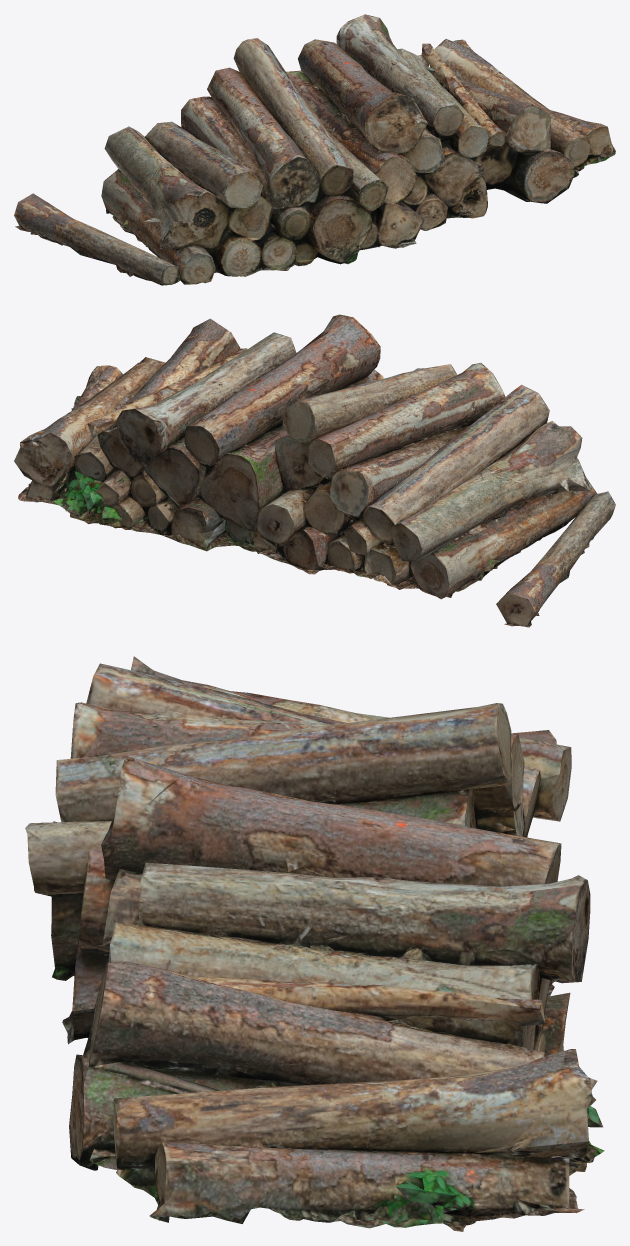
Rendered from Log Pile.fbx.
3 views of the same model, one above another, from view 1: azimuth 30°, elevation 25°; view 2: azimuth 150°, elevation 25°; view 3: azimuth 270°, elevation 25° (orthographic). The views are drawn at different scales.
Parts seen in each view (by area): view 1: Log Pile; view 2: Log Pile; view 3: Log Pile.
Part boxes in pixels (bbox=[...]): Log Pile: bbox=[14, 14, 615, 285]; Log Pile: bbox=[14, 314, 615, 627]; Log Pile: bbox=[25, 656, 604, 1231].
Size of the model in its own units: 263 by 72.2 by 130.
